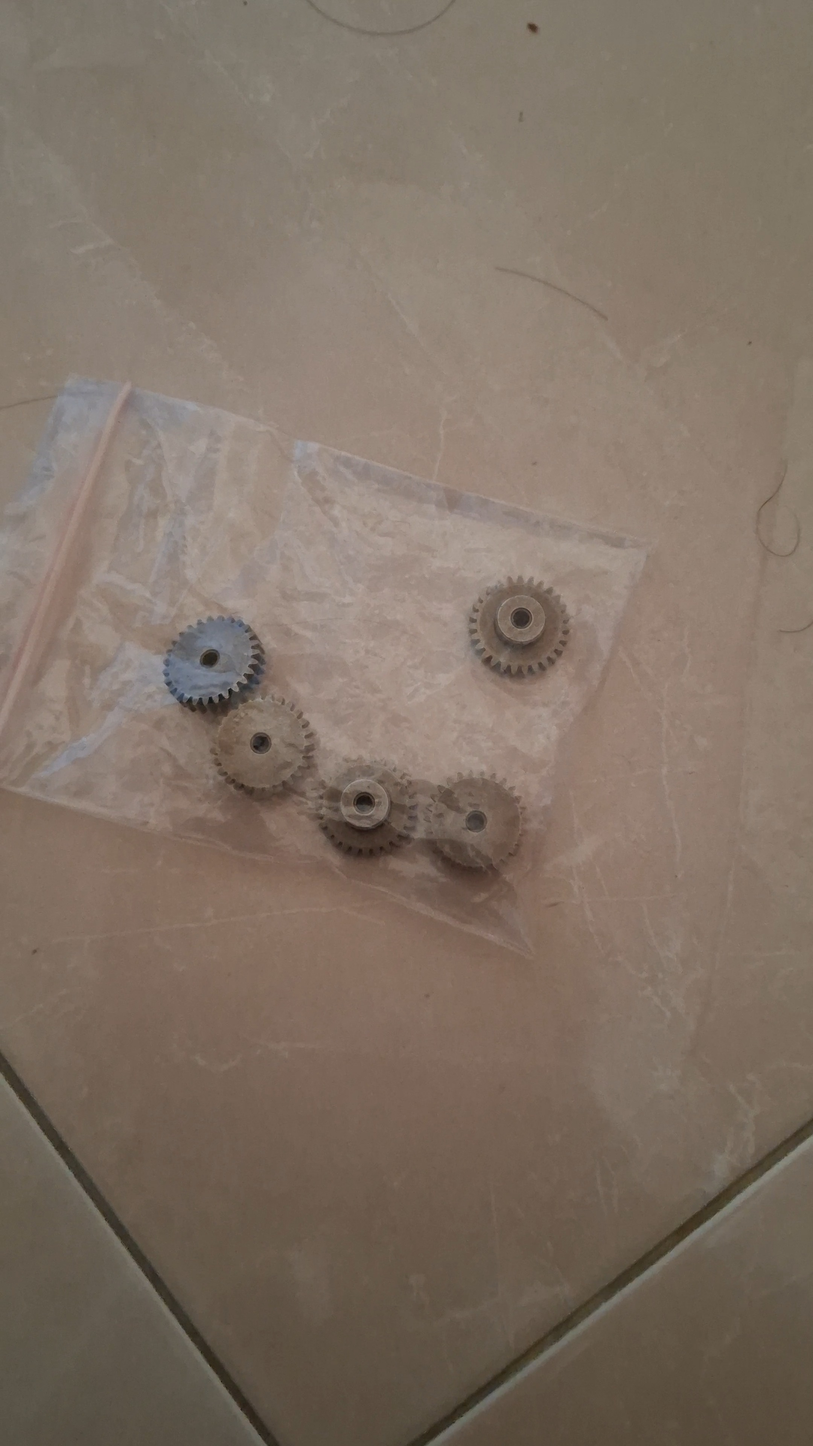spur gear: (213, 696, 315, 797), (469, 577, 569, 675), (318, 760, 417, 856), (164, 616, 264, 709), (428, 775, 521, 869)
